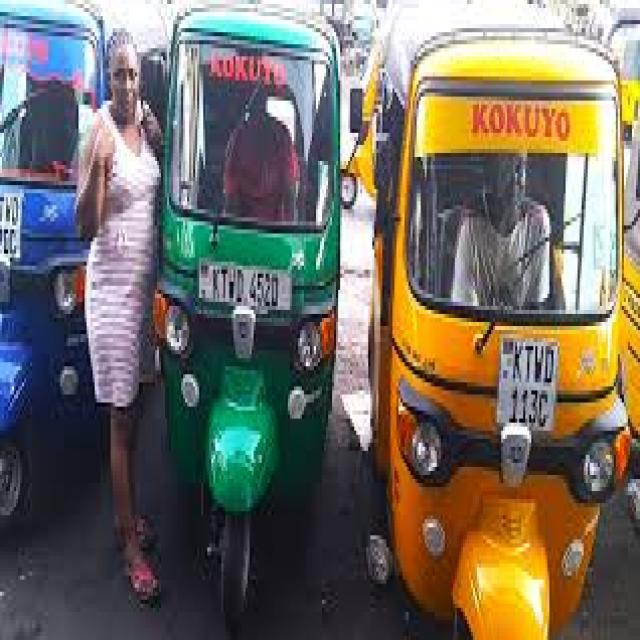tuktuk: (368, 20, 640, 640), (135, 0, 361, 634)
